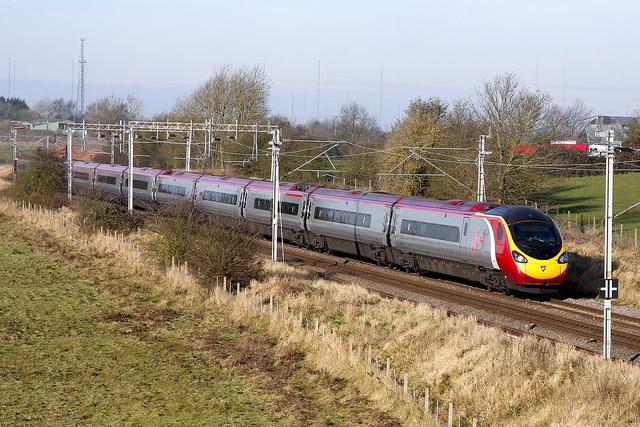Train: (54, 155, 574, 299)
